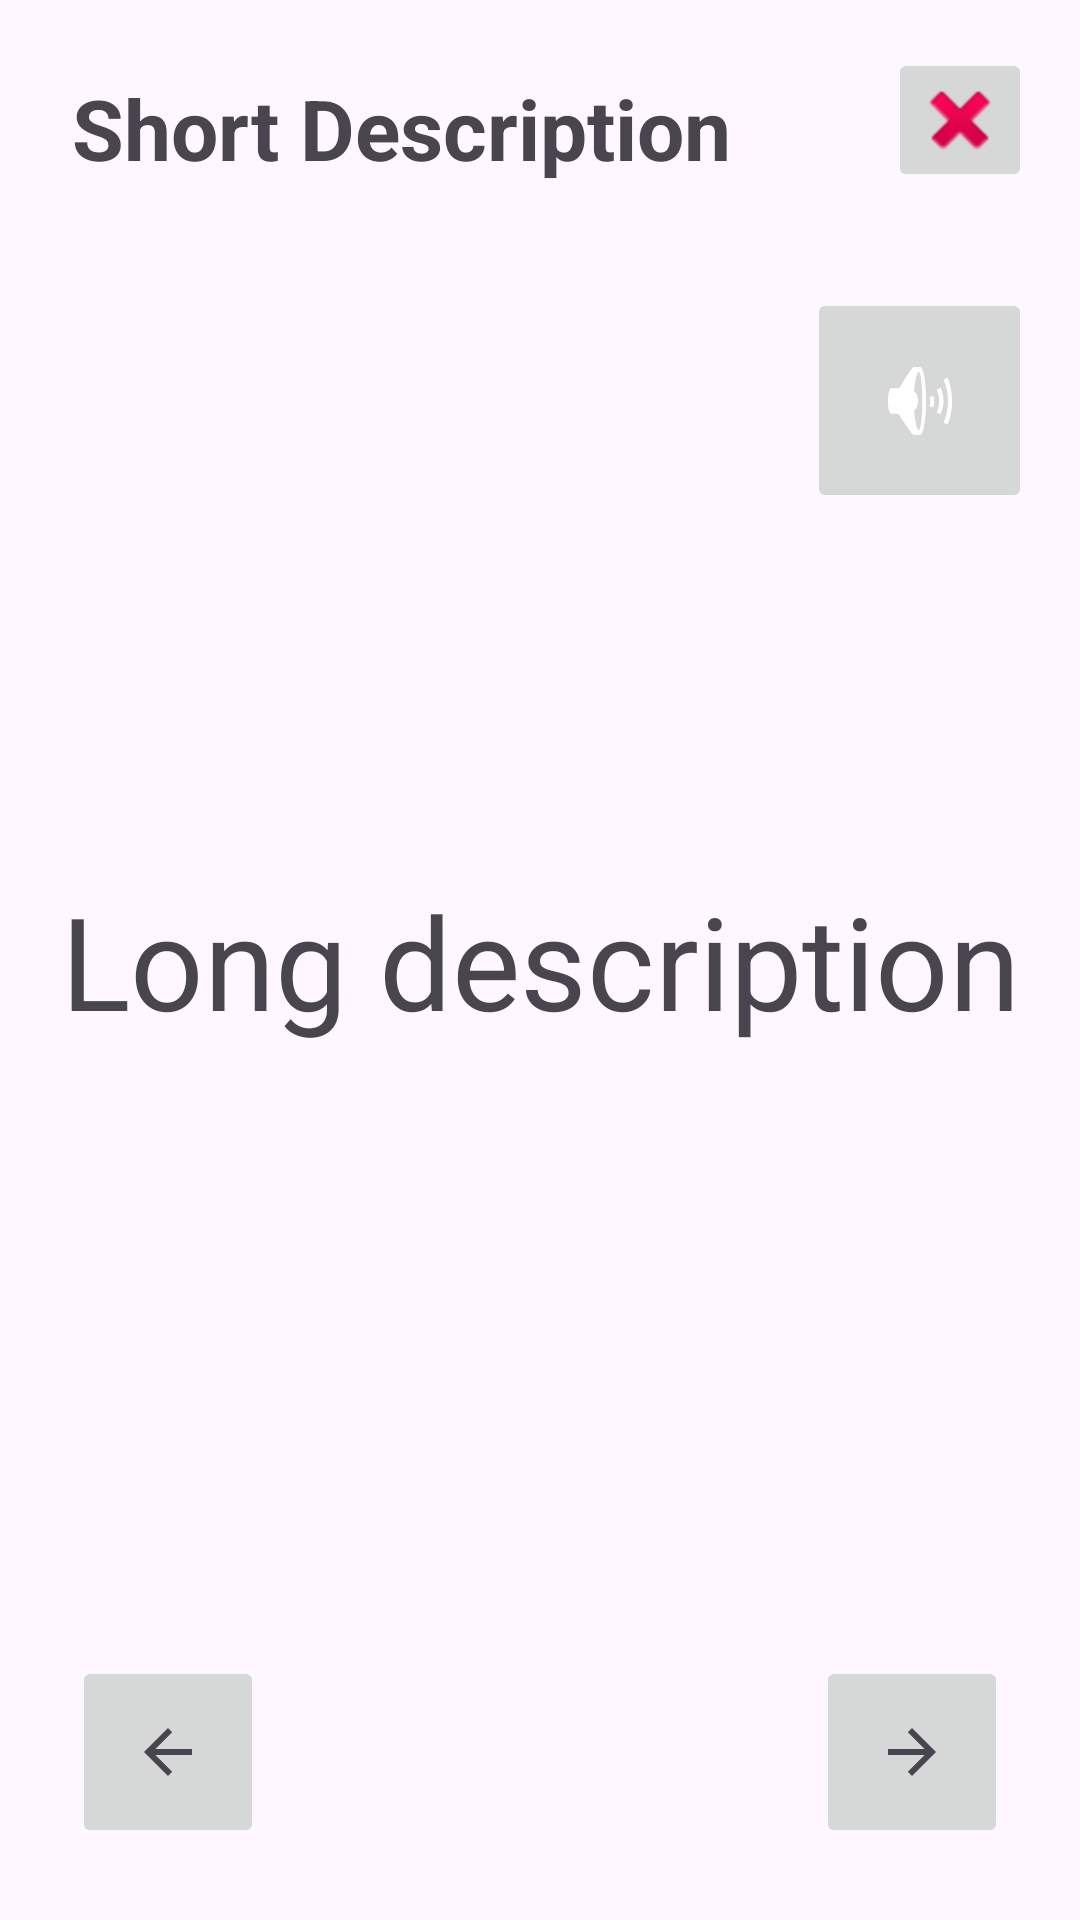

Icon click points for this 1080 × 1920 phone screenshot, format (x,y):
delete: (960,120)
lock silent mode off: (919,400)
